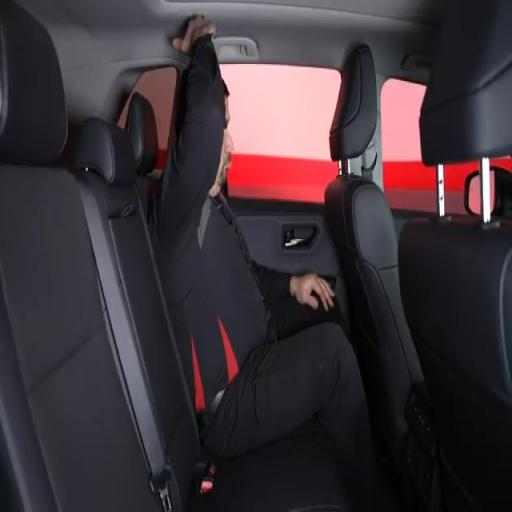side_mirror: (490, 167, 511, 217)
window: (222, 64, 340, 203), (381, 79, 437, 211), (118, 67, 177, 169)
